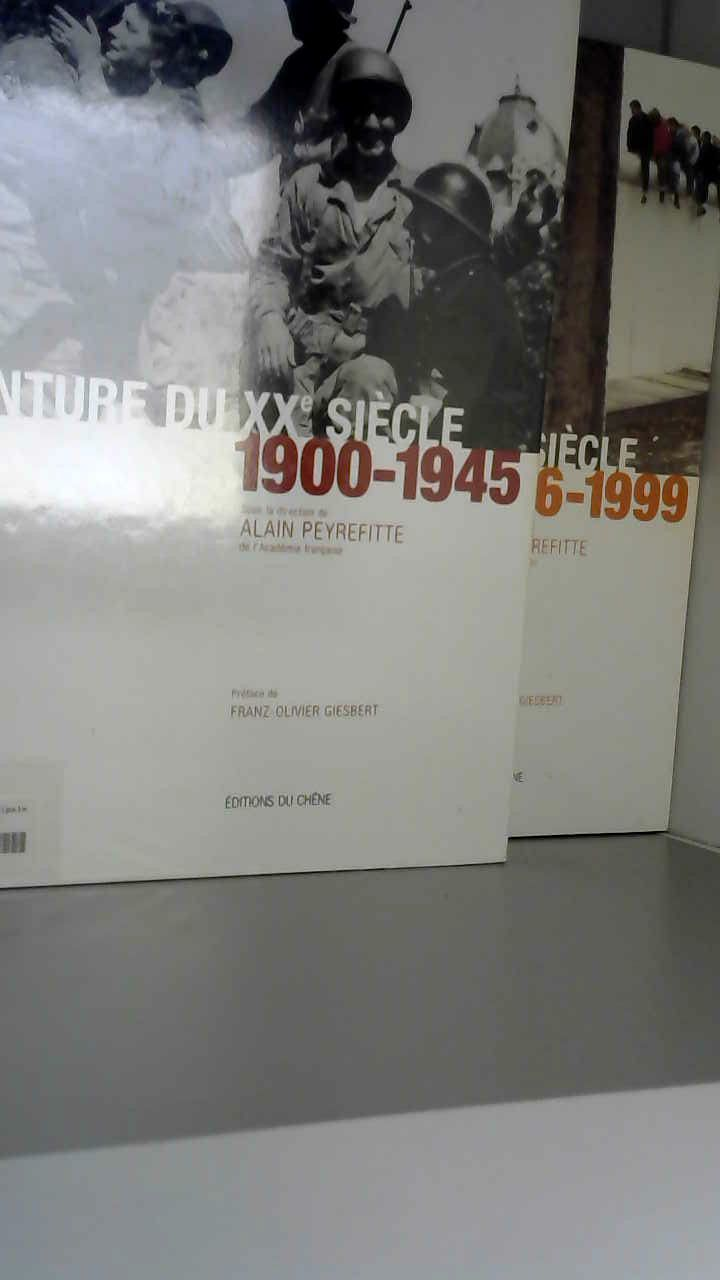book: (0, 0, 720, 915)
